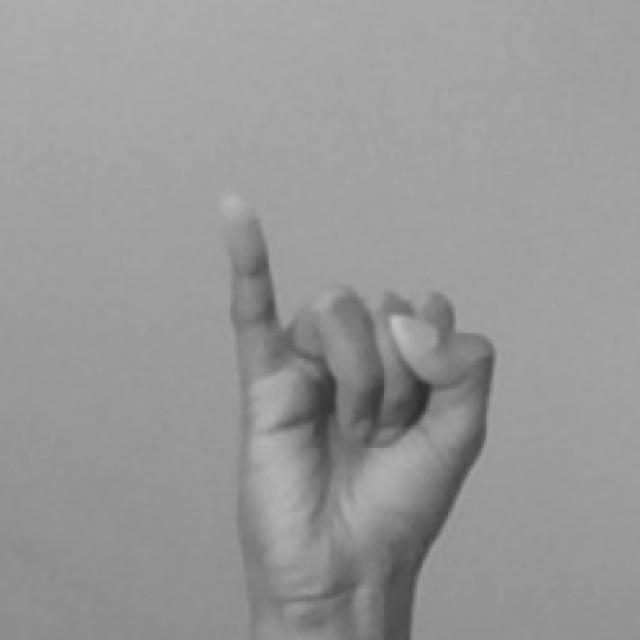I: (210, 187, 497, 640)
